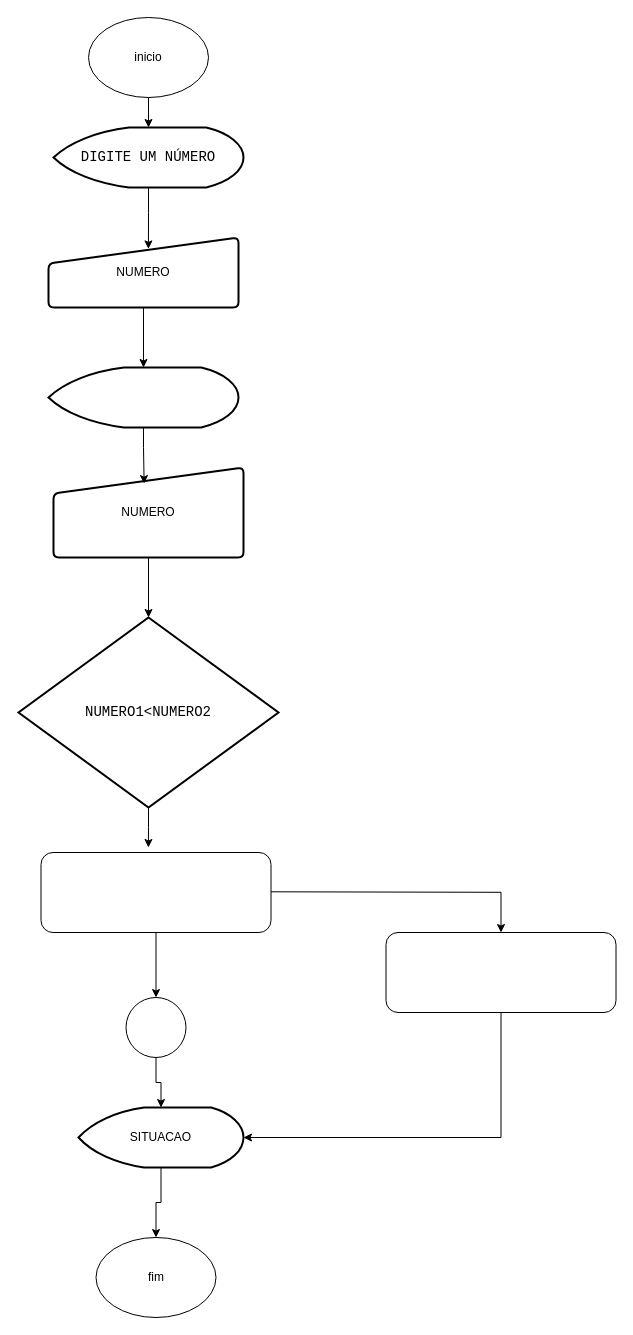
Image size: 633x1335. Some labels were removed from this diagram. The shapes that lost their labels are listed below. From the top down, each one's box as (x1, y1, x2, y2) in pixels, then its label:
(47, 366, 239, 428): DIGITE OUTRO NÚMERO
(40, 852, 271, 932): SITUACAO="DIFERENTE"
(385, 932, 616, 1012): SITUACAO="IGUAL"
